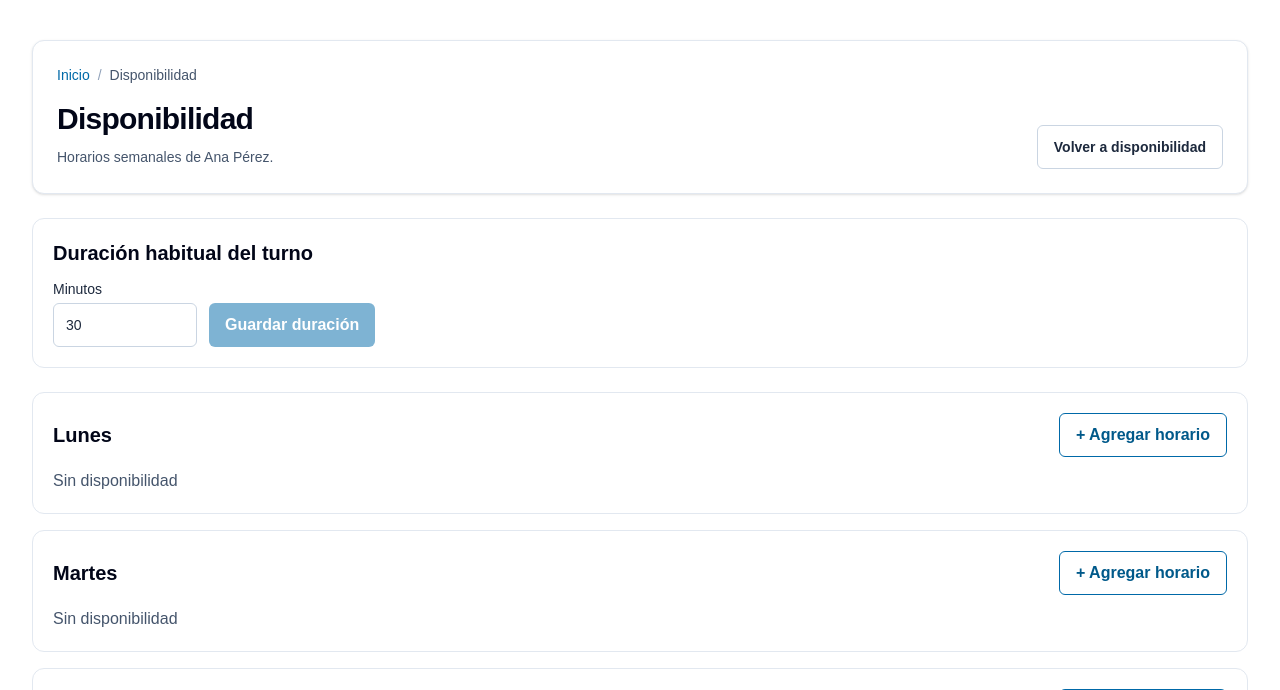
AvailabilityScreen › closes a clean editor with Cancelar
This screenshot has width=1280, height=690.
Click the button "+ Agregar horario" in the row of "Martes". click: [1143, 573]
box: 1059,551 -> 1227,595
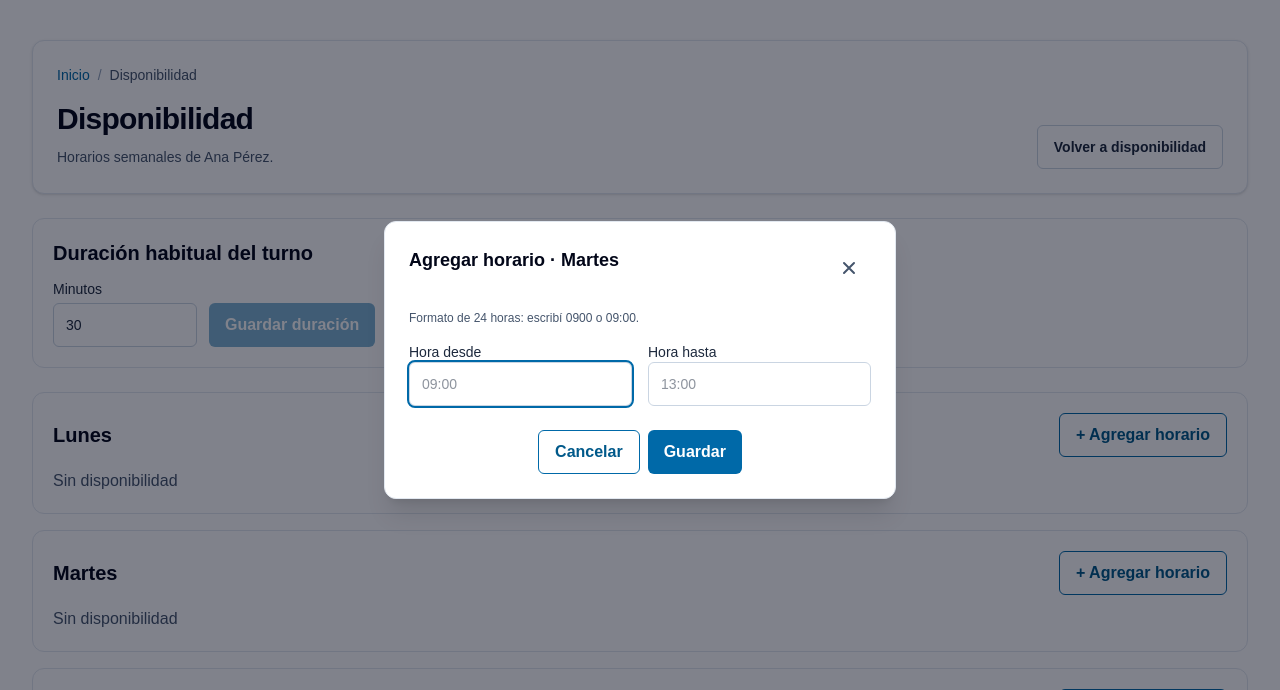
Click the button "Cancelar". click: [589, 452]
box: 538,430 -> 640,474
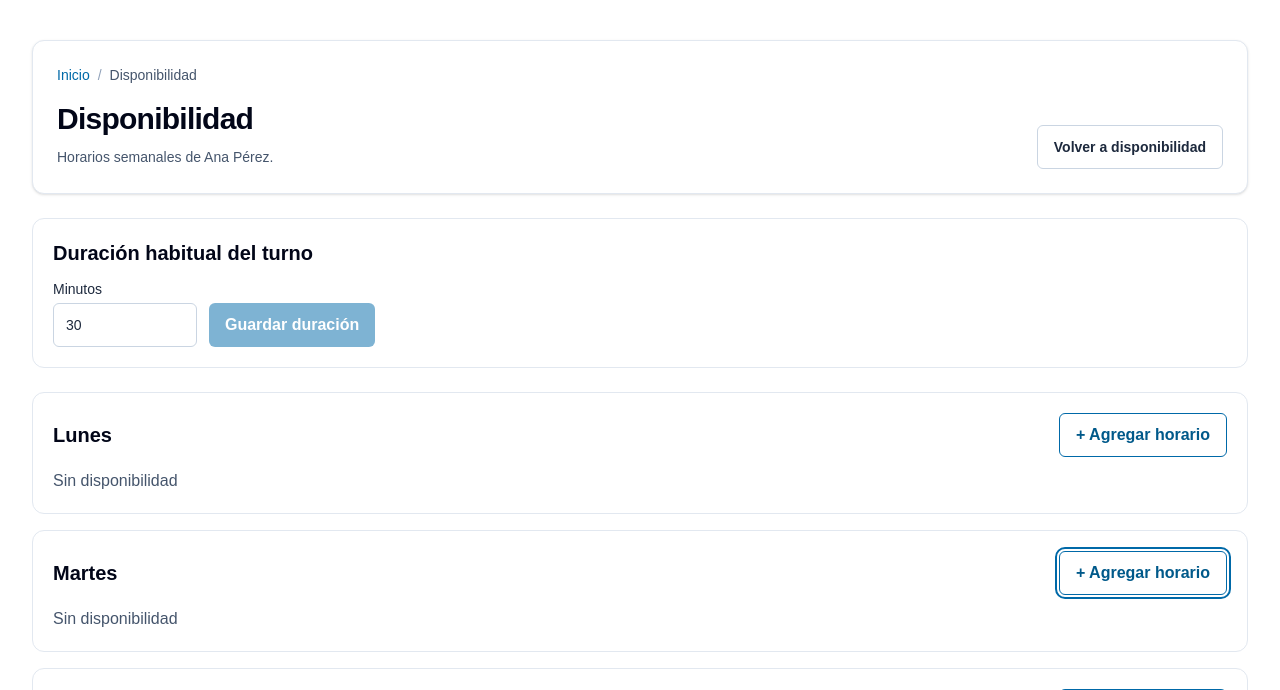
Expected: the dialog is gone
